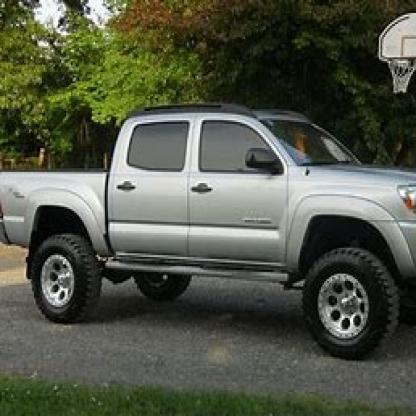light_vehicle: (7, 94, 414, 370)
